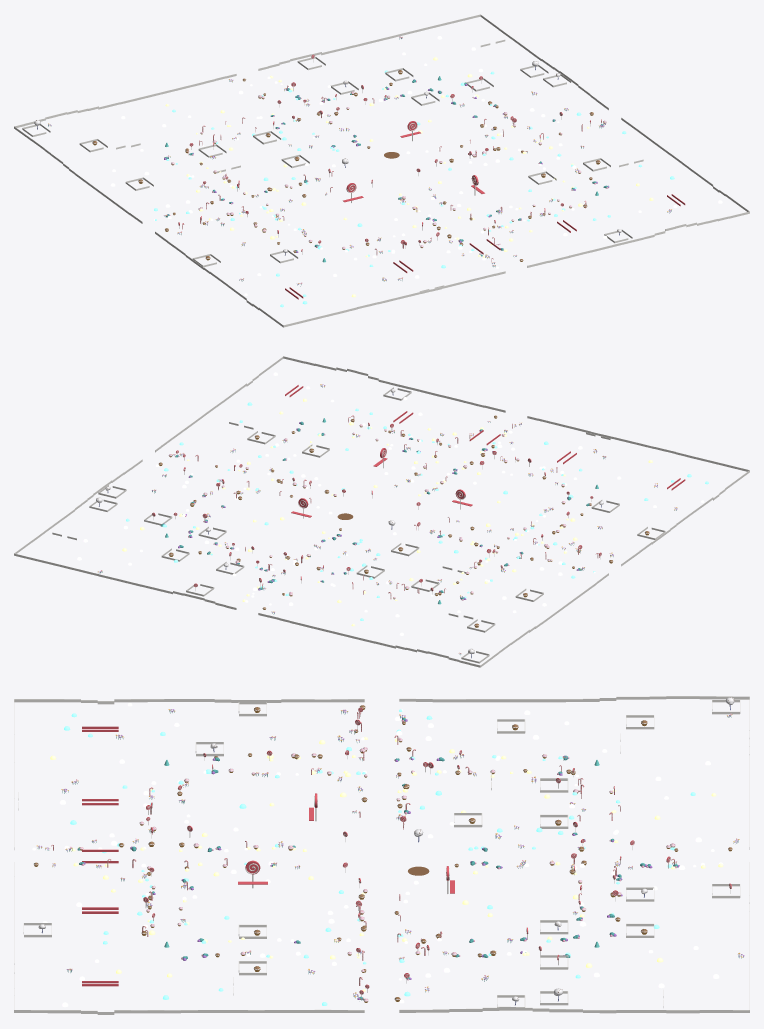
File: GingerbreadVillage_Decoration.fbx
3 renders of one model, top to bottom at view 1: azimuth 30°, elevation 25°; view 2: azimuth 150°, elevation 25°; view 3: azimuth 270°, elevation 25°, orthographic. The views are drawn at different scales.
Bounding box in the file's own units: 342 × 14.99 × 342.
